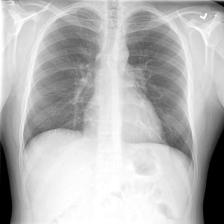normal: (19, 4, 198, 180)
